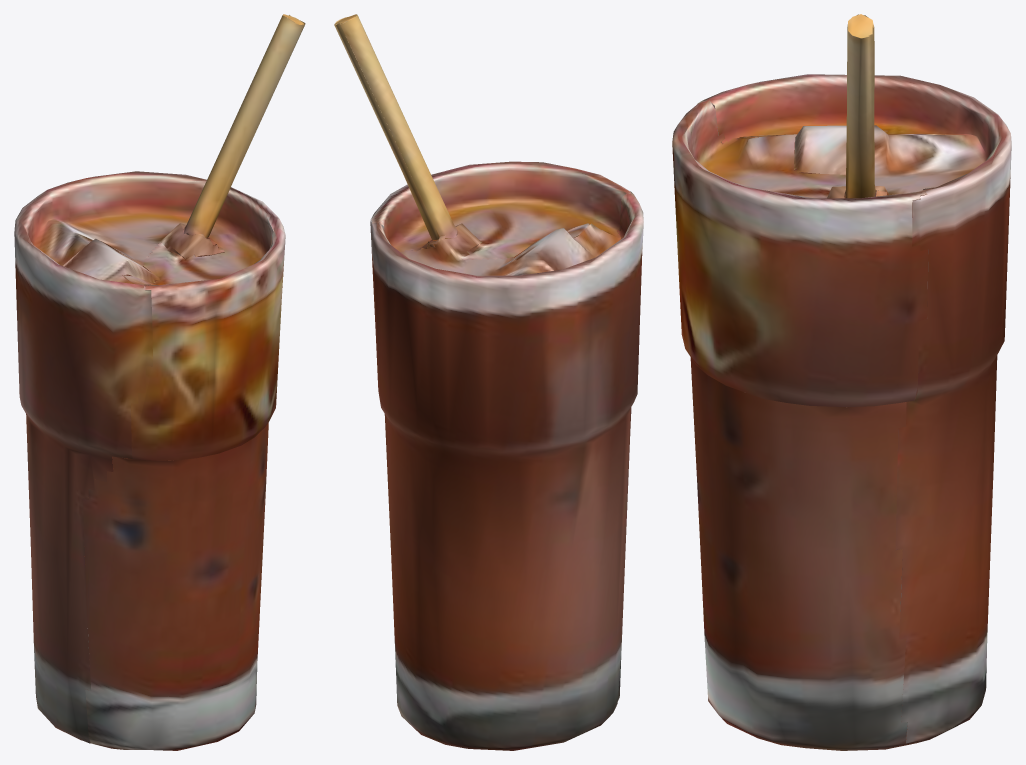
Rendered from pickup_es_teh.glb.
3 renders of one model, left to right at view 1: azimuth 30°, elevation 25°; view 2: azimuth 150°, elevation 25°; view 3: azimuth 270°, elevation 25°, orthographic. The views are drawn at different scales.
Parts seen in each view (by area): view 1: pickup_es_teh; view 2: pickup_es_teh; view 3: pickup_es_teh.
Part boxes in pixels (x1,y1,x2,y2): pickup_es_teh: (14, 14, 305, 750); pickup_es_teh: (334, 14, 643, 750); pickup_es_teh: (672, 14, 1011, 750).
Size of the model in its own units: 0.1413 by 0.3202 by 0.1277.
1 material, 1 textured.
